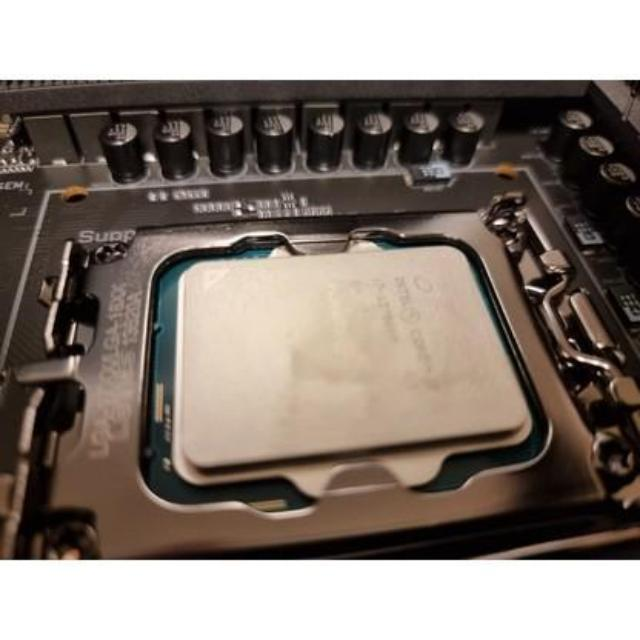CPU: (146, 238, 536, 484)
